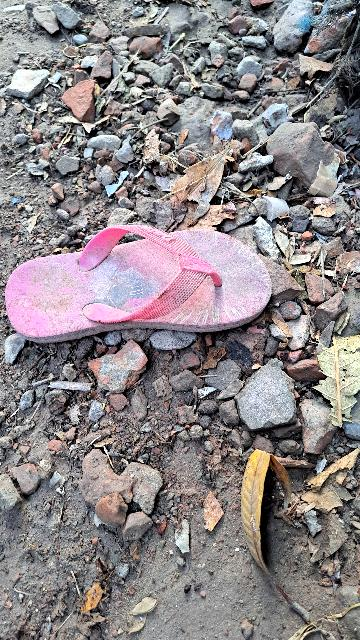sandal: (6, 227, 282, 347)
